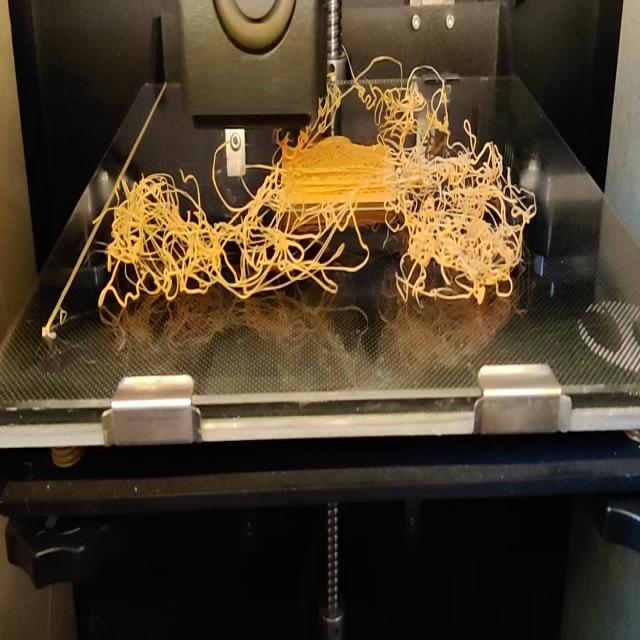spaghetti: (92, 124, 540, 314), (327, 34, 449, 122)
